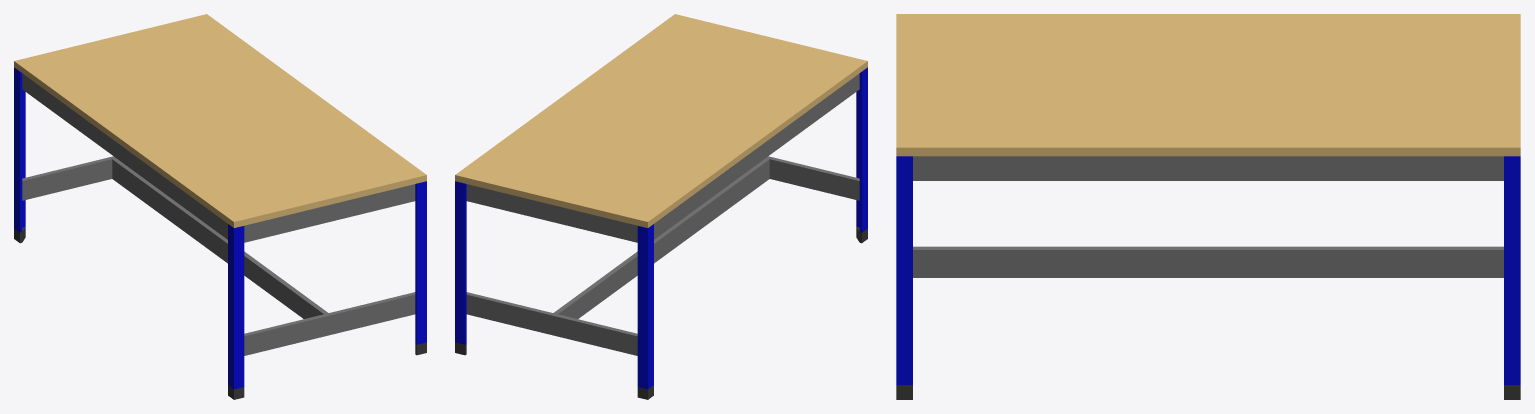
File: WorkshopTable.fbx
The picture shows the model from 3 angles, left to right: view 1: azimuth 30°, elevation 25°; view 2: azimuth 150°, elevation 25°; view 3: azimuth 270°, elevation 25°; orthographic projection. The views are drawn at different scales.
Visible parts, largest first — view 1: WorkshopTable; view 2: WorkshopTable; view 3: WorkshopTable.
Part boxes in pixels (left/top/right/bottom): WorkshopTable: left=14, top=14, right=426, bottom=399; WorkshopTable: left=455, top=14, right=867, bottom=399; WorkshopTable: left=896, top=14, right=1520, bottom=399.
Size of the model in its own units: 103 by 90.35 by 203.
